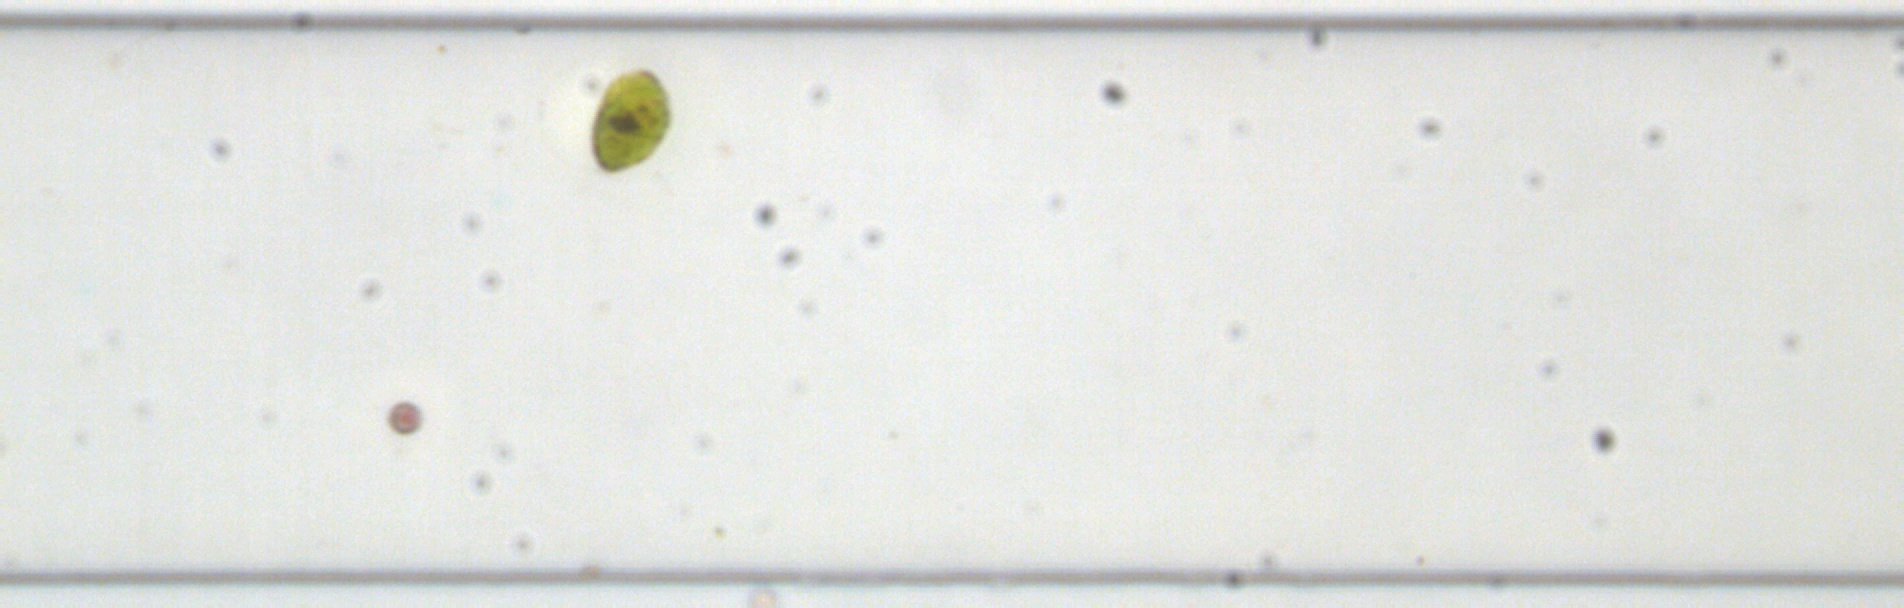Haematococcus: (586, 68, 675, 174)
Porphyridium: (385, 398, 423, 436)
